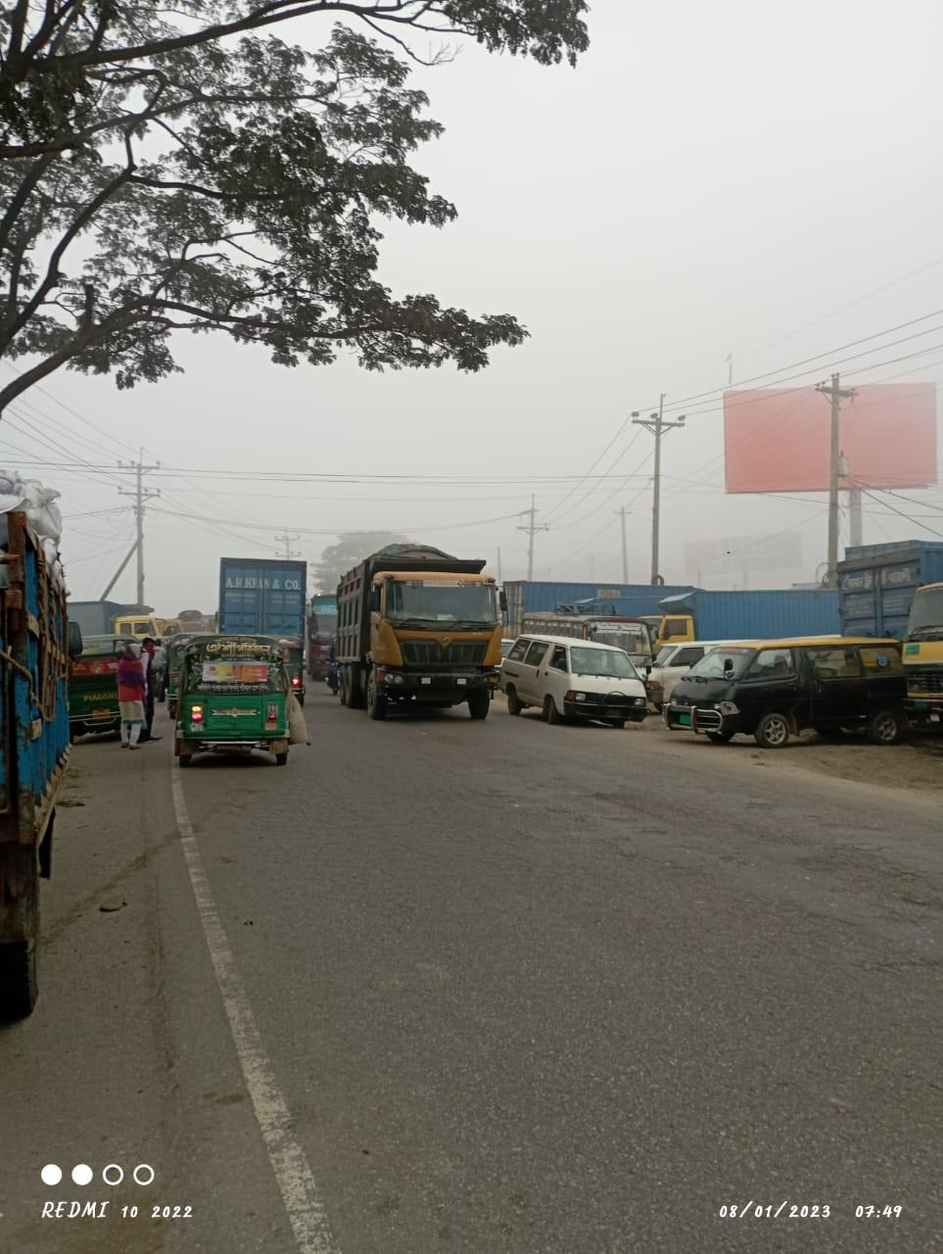Car: (662, 631, 915, 746), (499, 628, 651, 729)
Truck: (329, 548, 507, 730), (212, 548, 313, 659)
